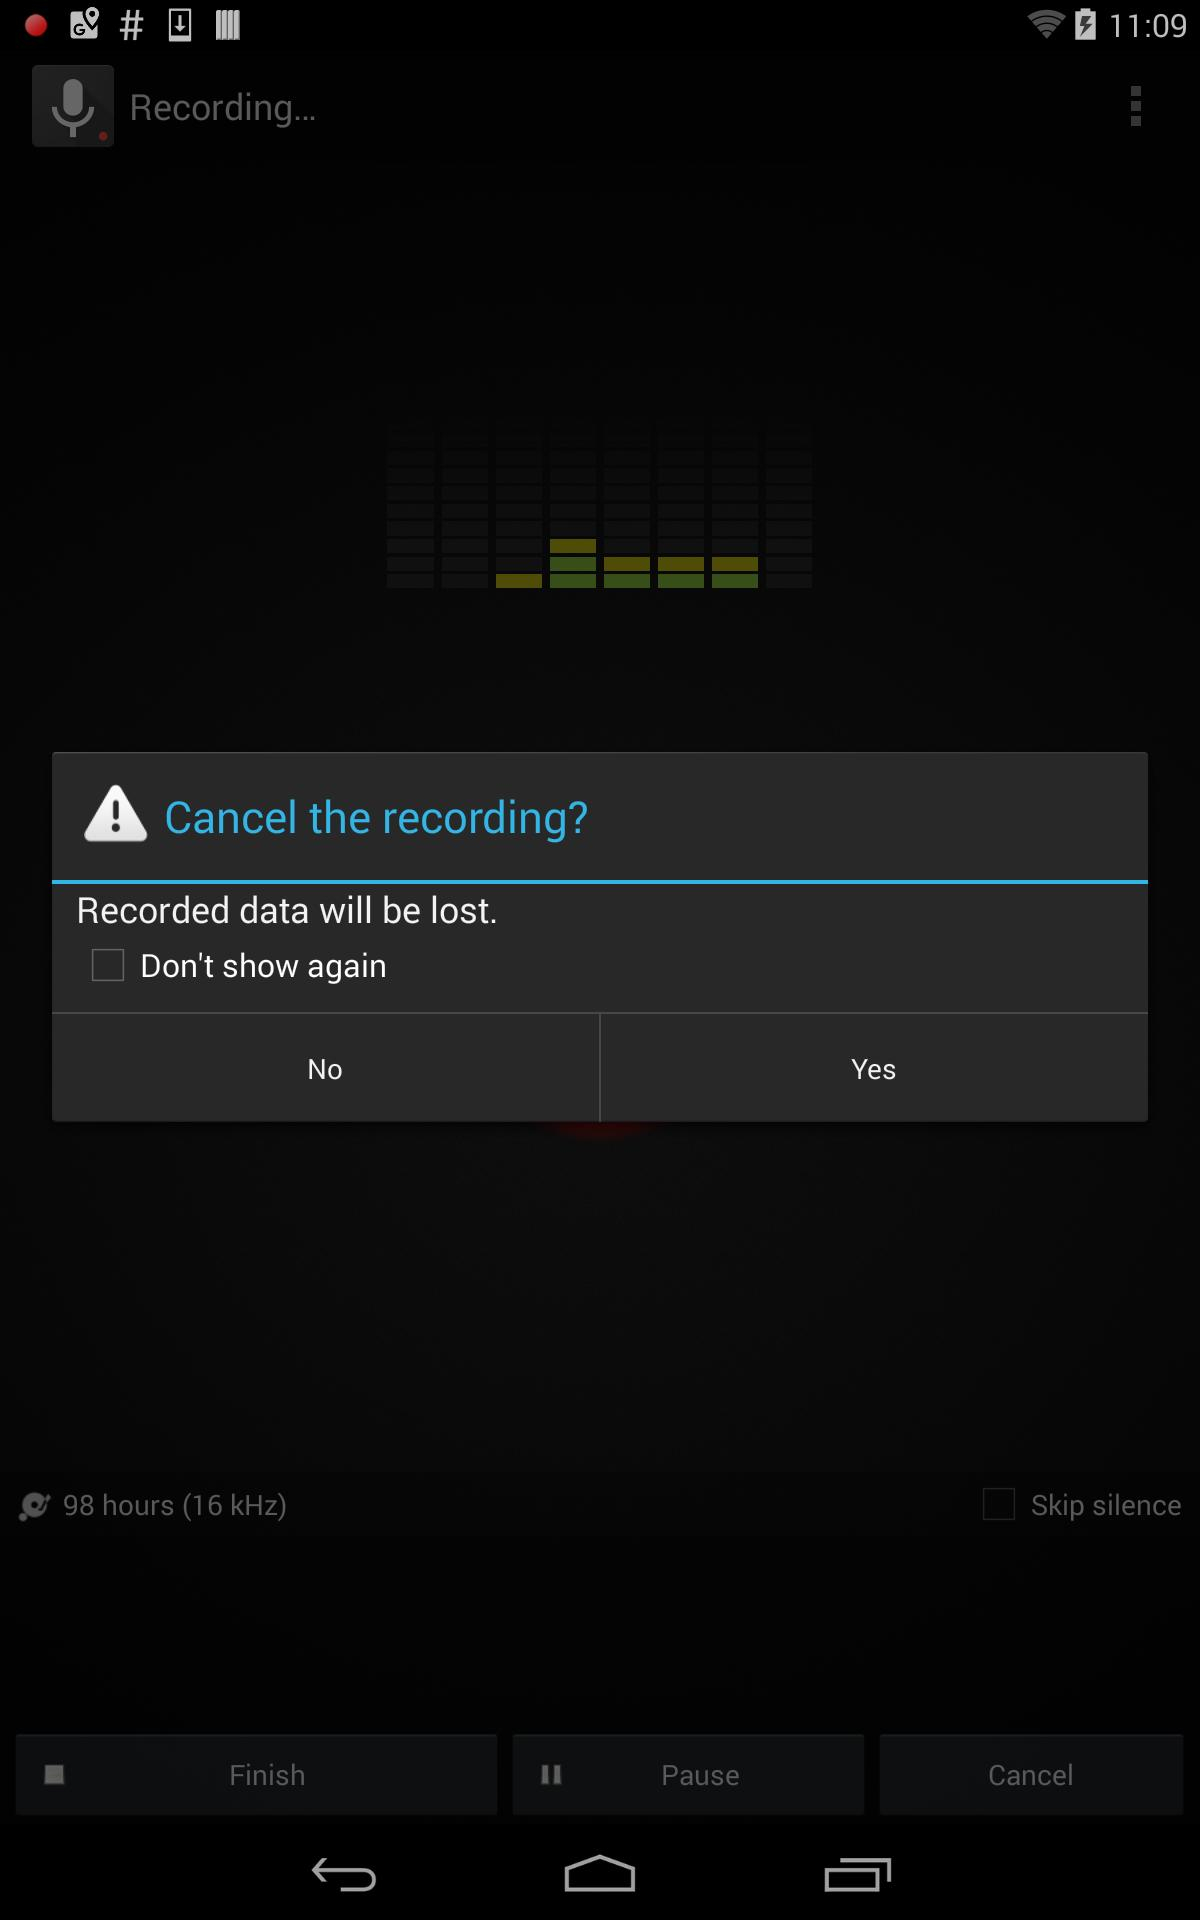android.view.View: (53, 881, 1147, 885)
android.widget.Button: (53, 1015, 599, 1122), (601, 1015, 1147, 1122)
android.widget.CheckBox: (76, 933, 1124, 997)
android.widget.FrameLayout: (19, 735, 1181, 1138), (36, 885, 1164, 1012), (53, 885, 1147, 997)
android.widget.ImageView: (84, 784, 165, 847)
android.widget.LinearLayout: (36, 735, 1164, 1138), (36, 735, 1164, 885), (36, 1012, 1164, 1138), (84, 752, 1116, 881), (53, 885, 1147, 997), (53, 1015, 1147, 1122)
android.widget.TextView: (165, 787, 1116, 845), (76, 885, 1124, 933)
